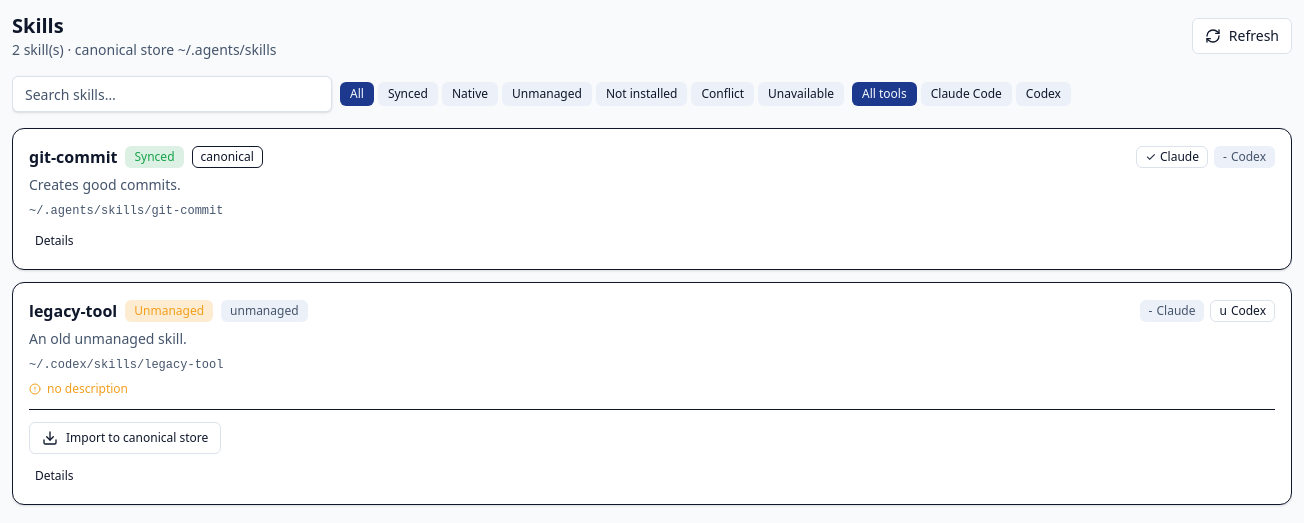
Test: SkillsPage › filters by search query
Type "legacy" into the search field labelled "Search skills". click: (172, 94)
box: [12,76,332,112]
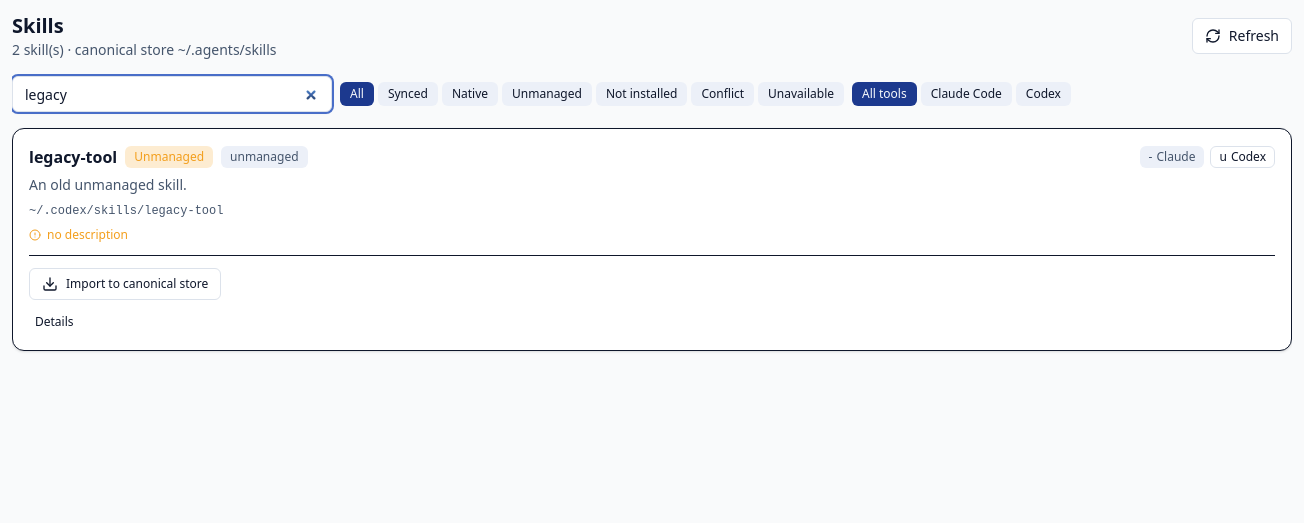
expect the heading "legacy-tool" is shown: met, box [29,145,117,169]
expect the heading "git-commit" is gone: met
